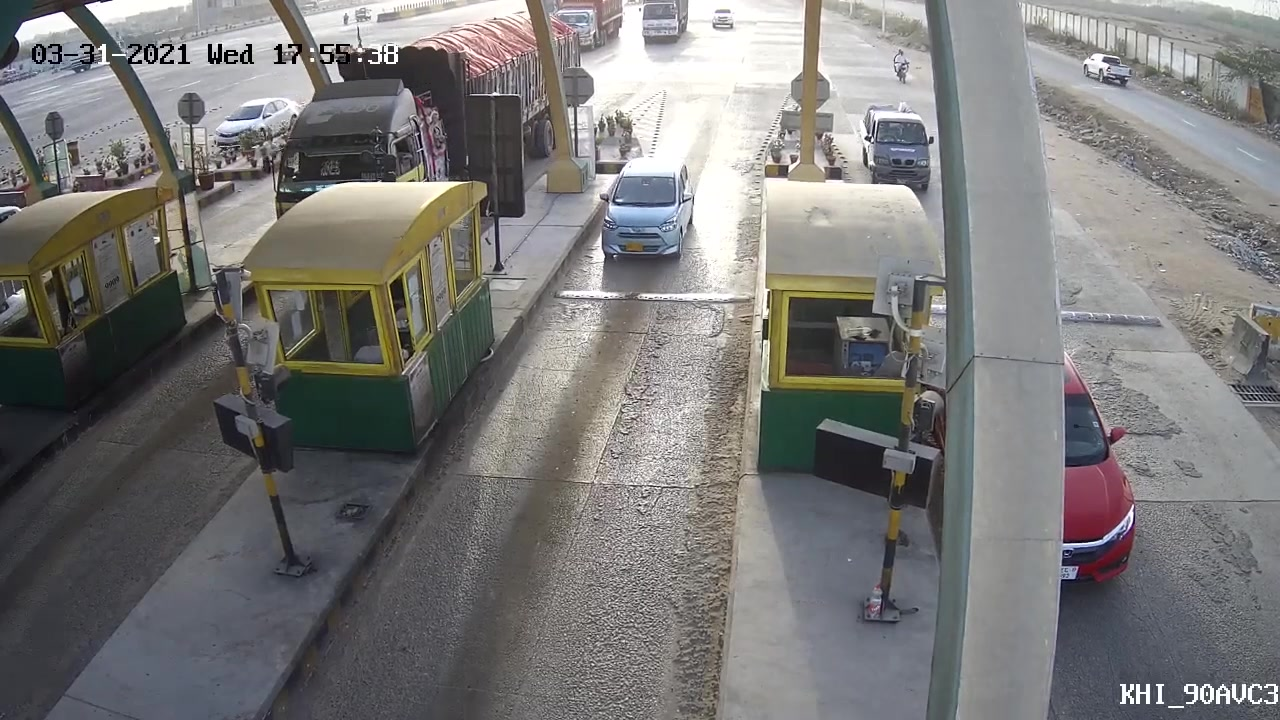F1: (586, 154, 698, 266)
